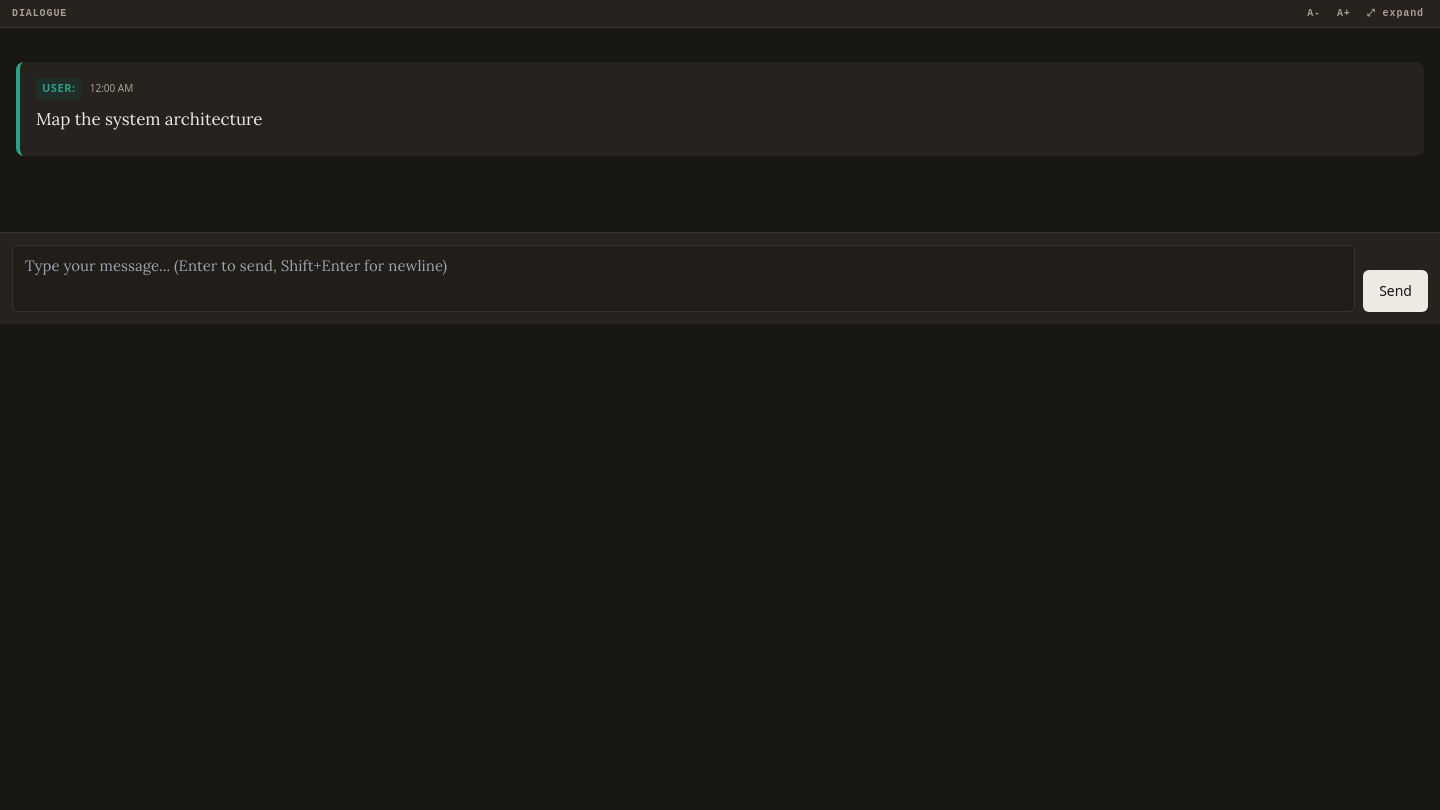
Test: ChatArea long-dwell enrichments › maximizes the chat as a popup and Escape closes it
Click the button with aria-label "Maximize chat".
click(1395, 14)  # box left=1363, top=6, right=1428, bottom=21
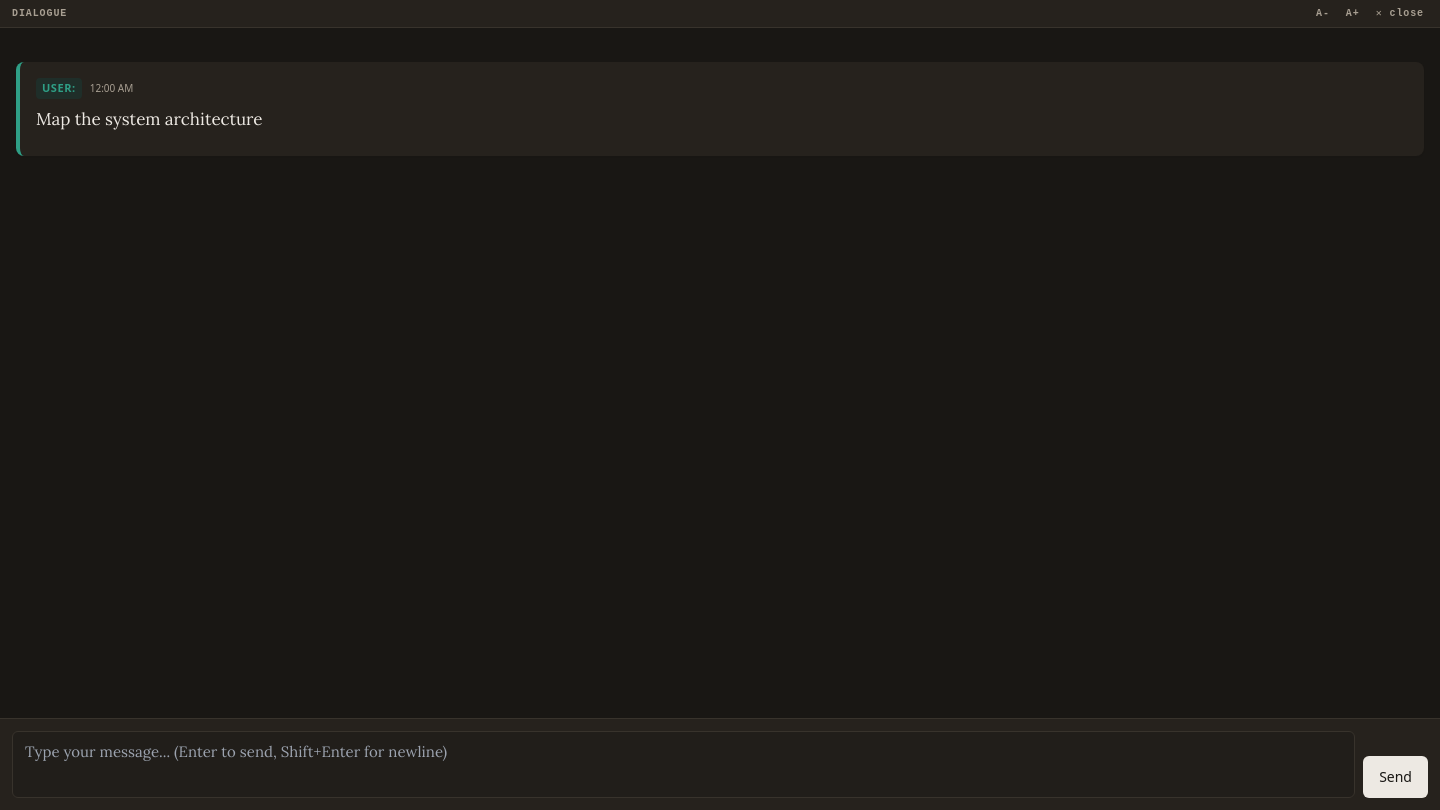
Expected: the element with class "inset-0" shows "Map the system architecture", left=36, top=108, right=262, bottom=130
Expected: the button "✕ close" is shown, left=1372, top=6, right=1428, bottom=21
Expected: the element with class "inset-0" is shown
Press Escape
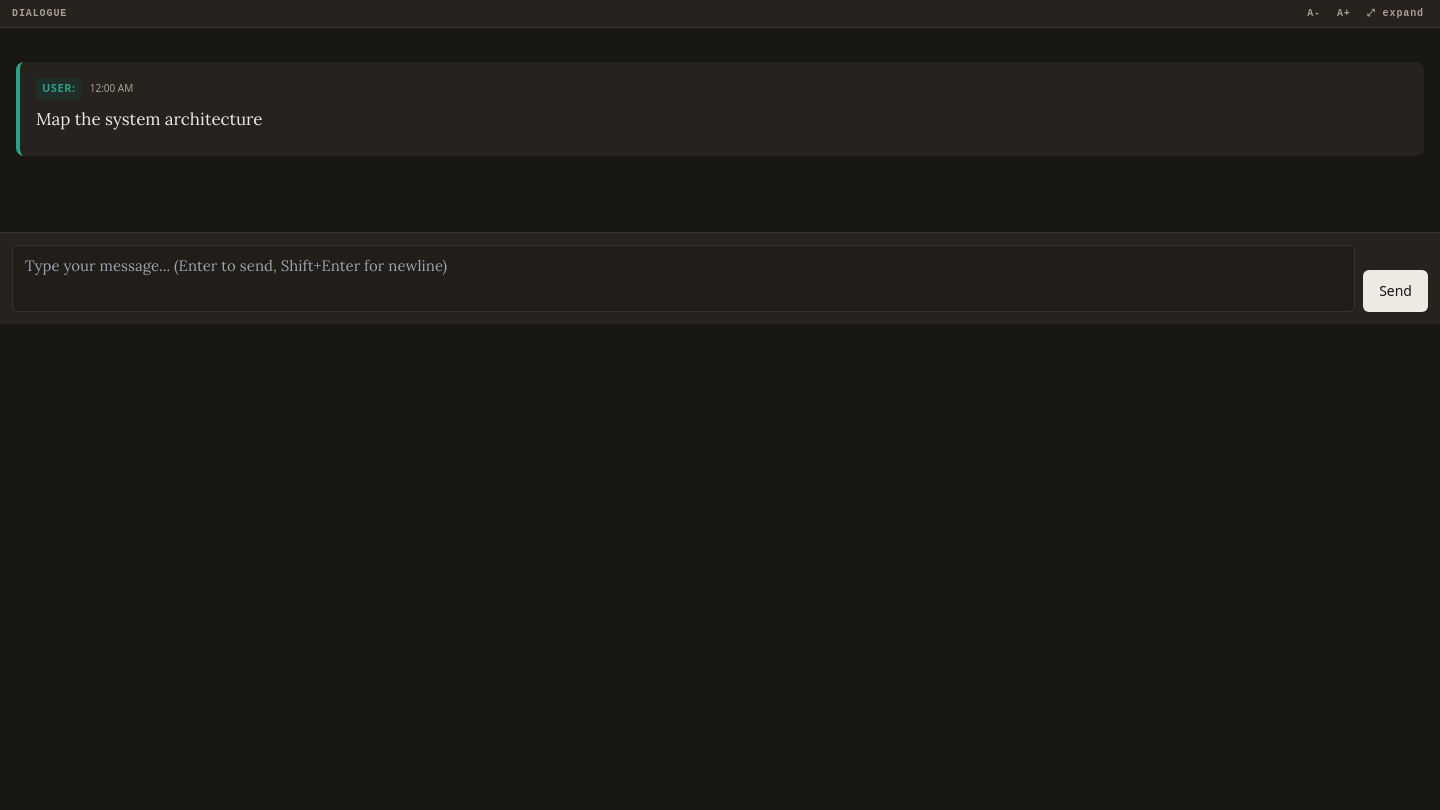
Expected: the button "✕ close" is gone
